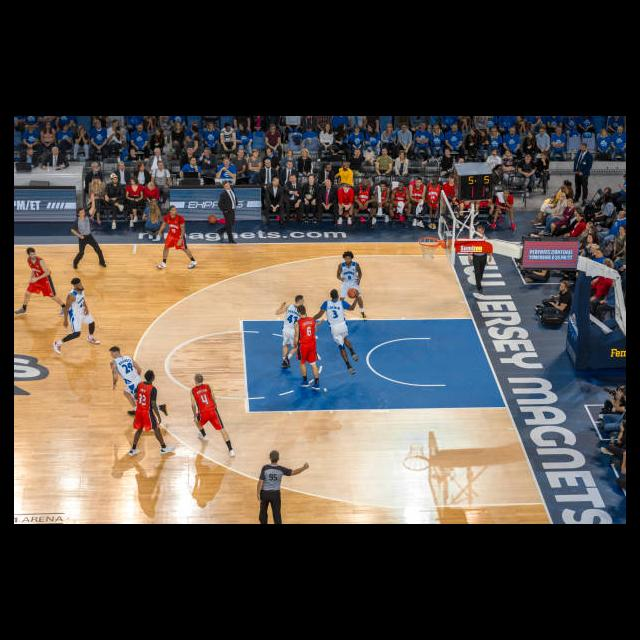basketball: (346, 286, 357, 298), (208, 214, 215, 223)
hoop: (418, 235, 438, 260)
